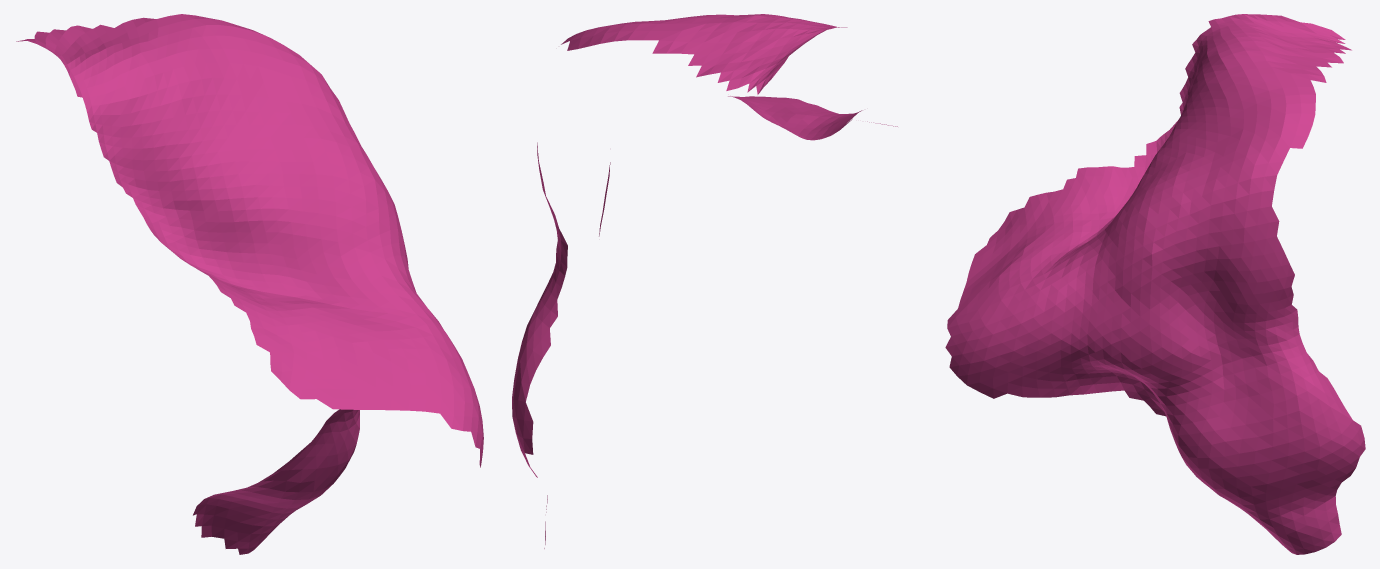
The model's file is lh_cuneus.glb.
The picture shows the model from 3 angles, left to right: view 1: azimuth 30°, elevation 25°; view 2: azimuth 150°, elevation 25°; view 3: azimuth 270°, elevation 25°; orthographic projection. The views are drawn at different scales.
Visible parts, largest first — view 1: world; view 2: world; view 3: world.
Part boxes in pixels (x1=…): world: x1=16, y1=14, x2=483, y2=554; world: x1=512, y1=14, x2=897, y2=548; world: x1=945, y1=14, x2=1365, y2=554.
Size of the model in its own units: 18.77 by 34.78 by 29.22.
